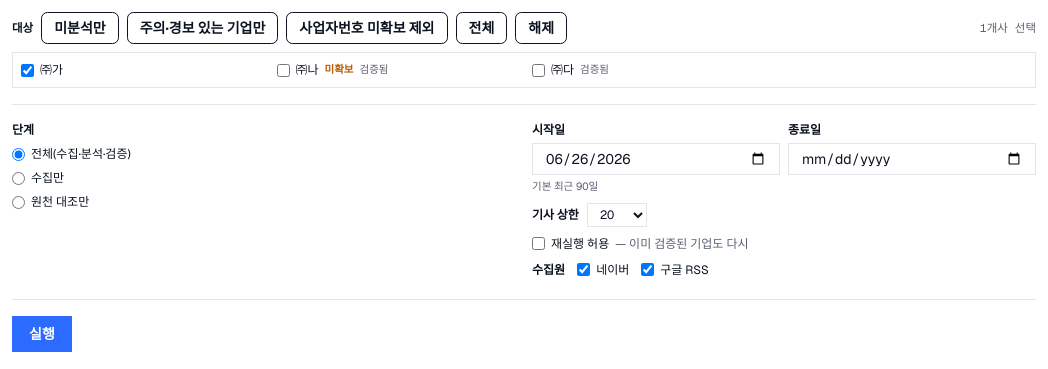
Scenario: BatchRunner › a failed events subscription surfaces a message and hands the 실행 button back
The width and height of the screenshot is (1048, 369).
Click the button "실행" at x=42, y=334, box top-left (12, 316), bottom-right (72, 352)
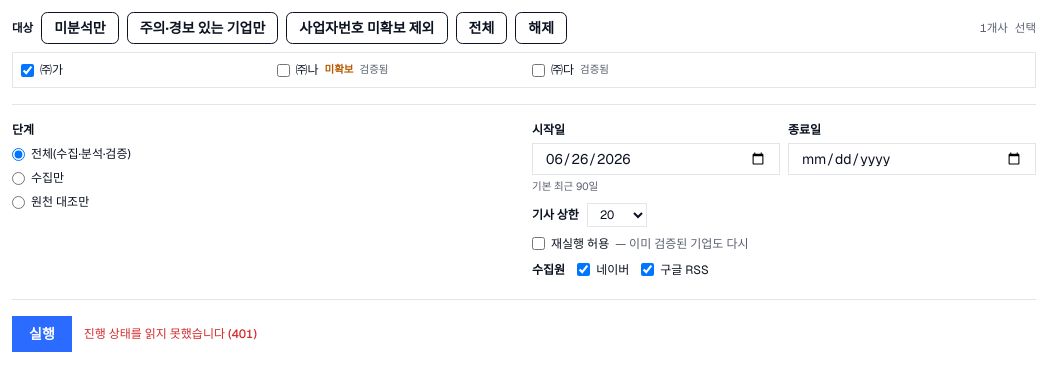
Expected: the message reads "진행 상태를 읽지 못했습니다 (401)", top-left (84, 326), bottom-right (257, 342)
